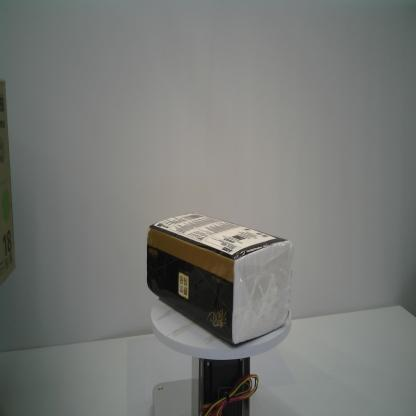Tissue: (146, 212, 294, 345)
